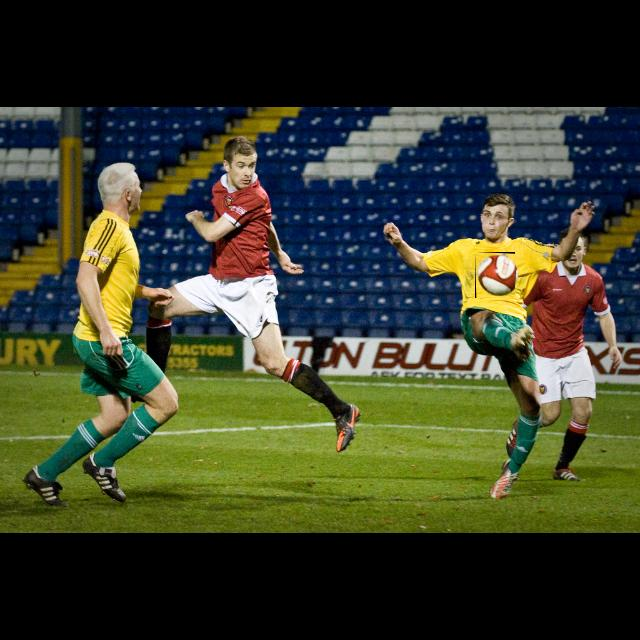Football: (475, 252, 515, 298)
